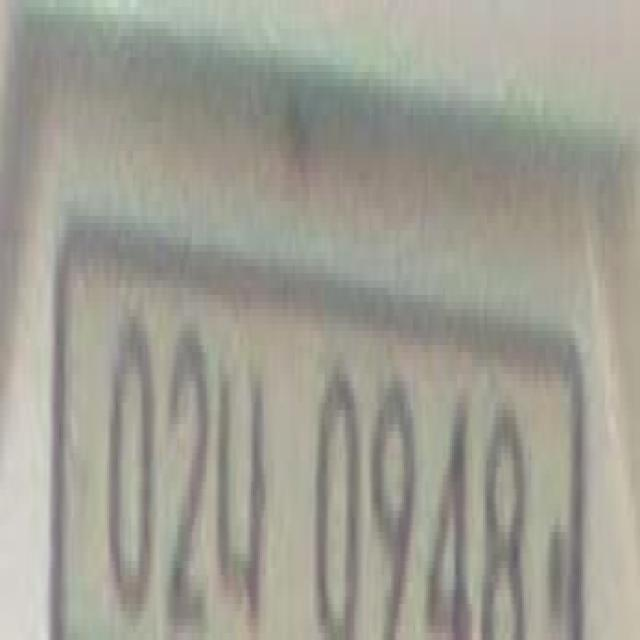illegal_plate: (51, 255, 599, 634)
